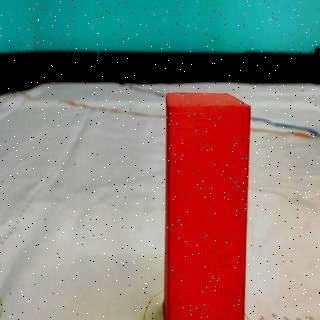redbox: (168, 92, 246, 320)
